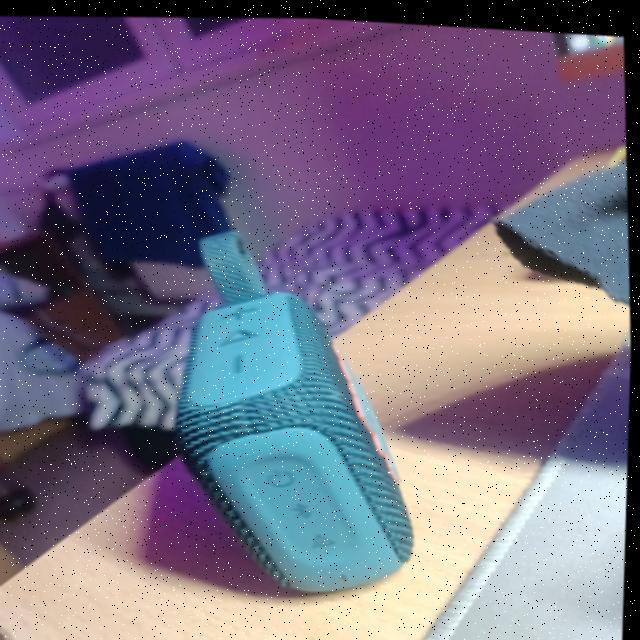column JBL: (178, 230, 416, 588)
